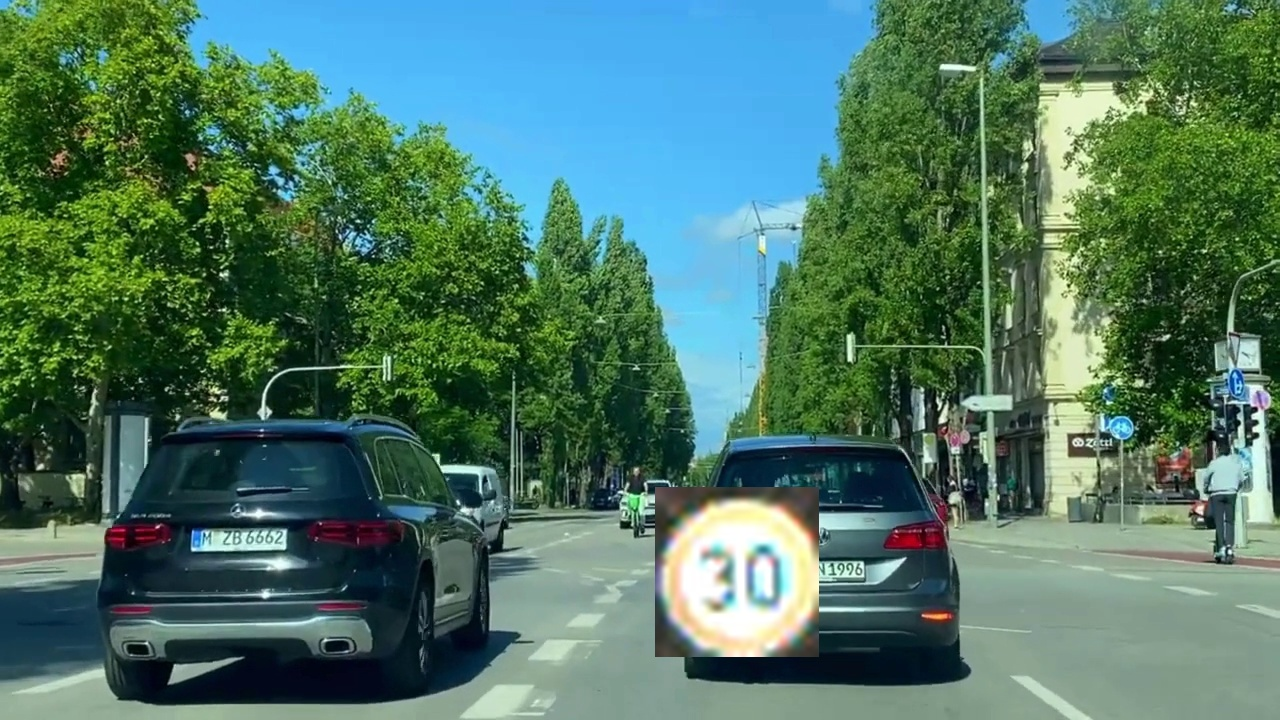Speed 30: (655, 487, 819, 657)
